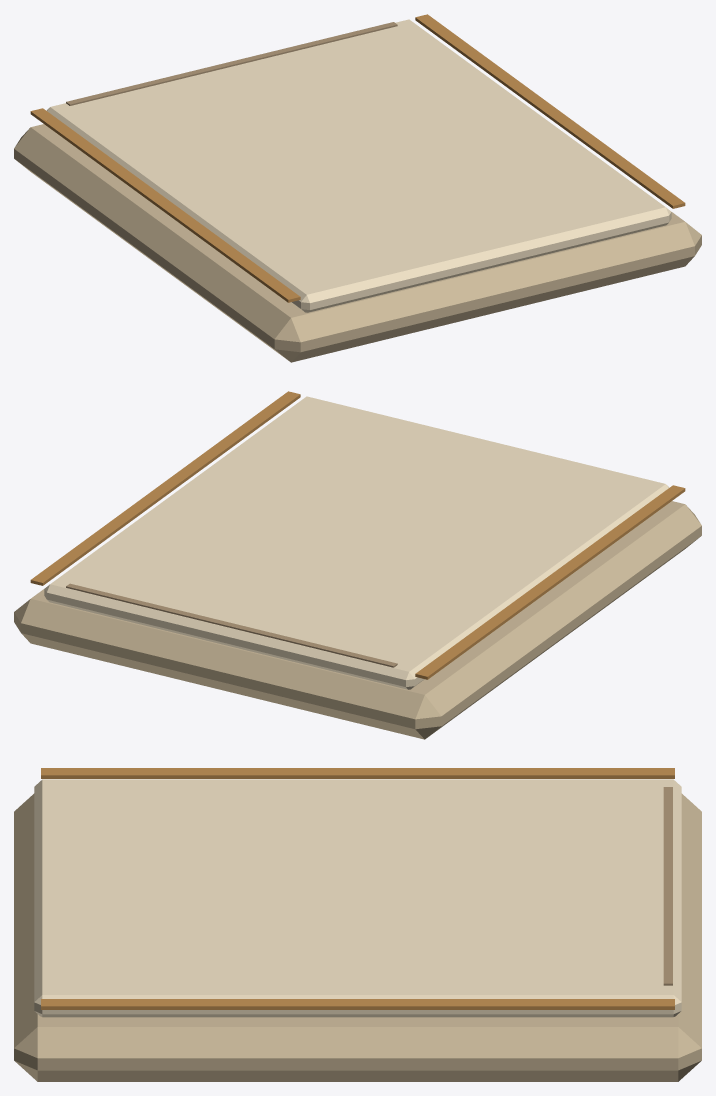
The model's file is Environment_SanctuaryPath.fbx.
The picture shows the model from 3 angles, top to bottom: view 1: azimuth 30°, elevation 25°; view 2: azimuth 150°, elevation 25°; view 3: azimuth 270°, elevation 25°; orthographic projection. The views are drawn at different scales.
Parts seen in each view (by area): view 1: Environment_SanctuaryPath; view 2: Environment_SanctuaryPath; view 3: Environment_SanctuaryPath.
Boxes of the visible parts, bbox=[...] form: Environment_SanctuaryPath: bbox=[14, 14, 701, 362]; Environment_SanctuaryPath: bbox=[14, 391, 701, 739]; Environment_SanctuaryPath: bbox=[14, 768, 701, 1081].
Size of the model in its own units: 0.9 by 0.128 by 1.02.
